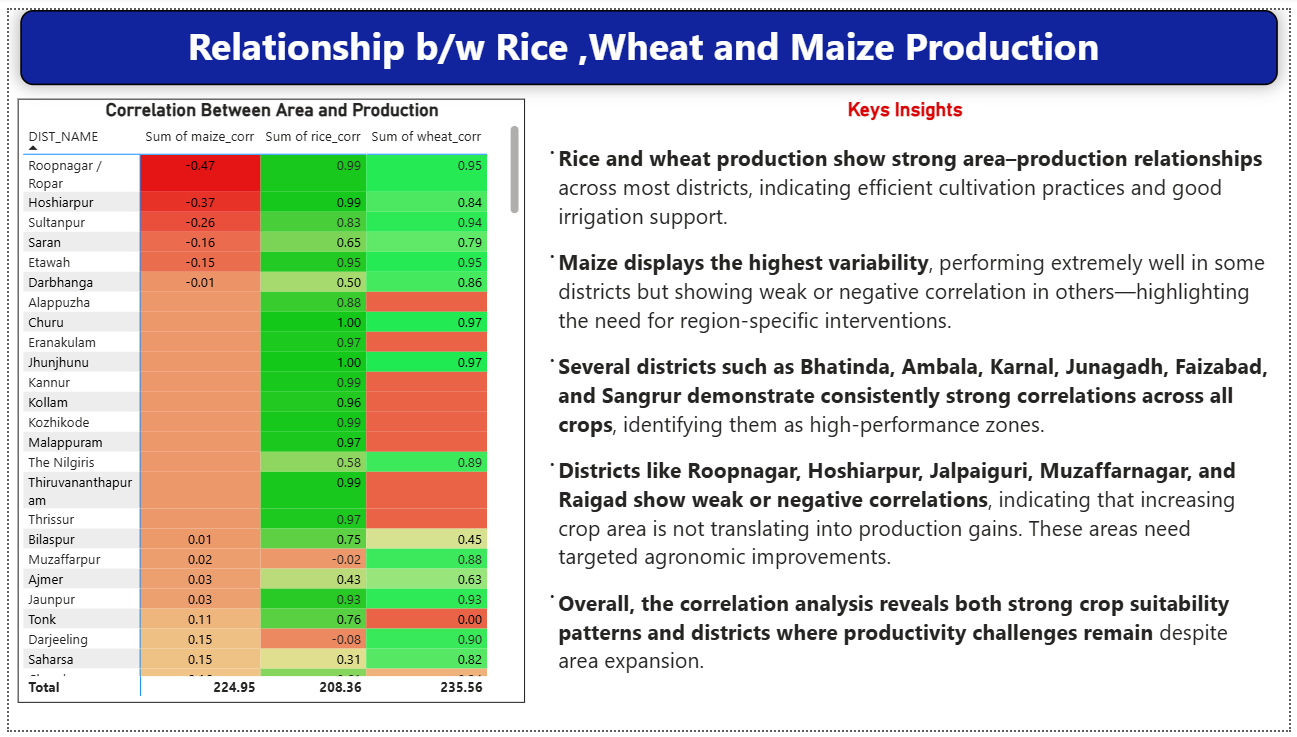

This screenshot's page, from the dashboard's own definition file:
{"tool":"powerbi","page":{"name":"Dashboard-6","canvas":[1280,720],"ordinal":5},"visuals":[{"type":"textbox","title":"Keys Insights","box":[526.2,88.8,740,603.8],"z":0},{"type":"pivotTable","title":"Correlation Between Area and Production","fields":{"Rows":["Correlation Between Area and Production.DIST_NAME"],"Values":["Sum(Correlation Between Area and Production.maize_corr)","Sum(Correlation Between Area and Production.rice_corr)","Sum(Correlation Between Area and Production.wheat_corr)"]},"box":[8.8,88.8,507.5,603.8],"z":1000},{"type":"textbox","box":[11.2,0,1257.5,75],"z":2000}]}

Visuals, with their boxes in screenshot pixels (x1, y1, x2, y2), scaled from the page's 1280x720 canvas onto the 1297x737 screenshot:
"Keys Insights" textbox: [x1=533, y1=91, x2=1283, y2=709]
"Correlation Between Area and Production" pivotTable: [x1=9, y1=91, x2=523, y2=709]
textbox: [x1=11, y1=0, x2=1286, y2=77]
